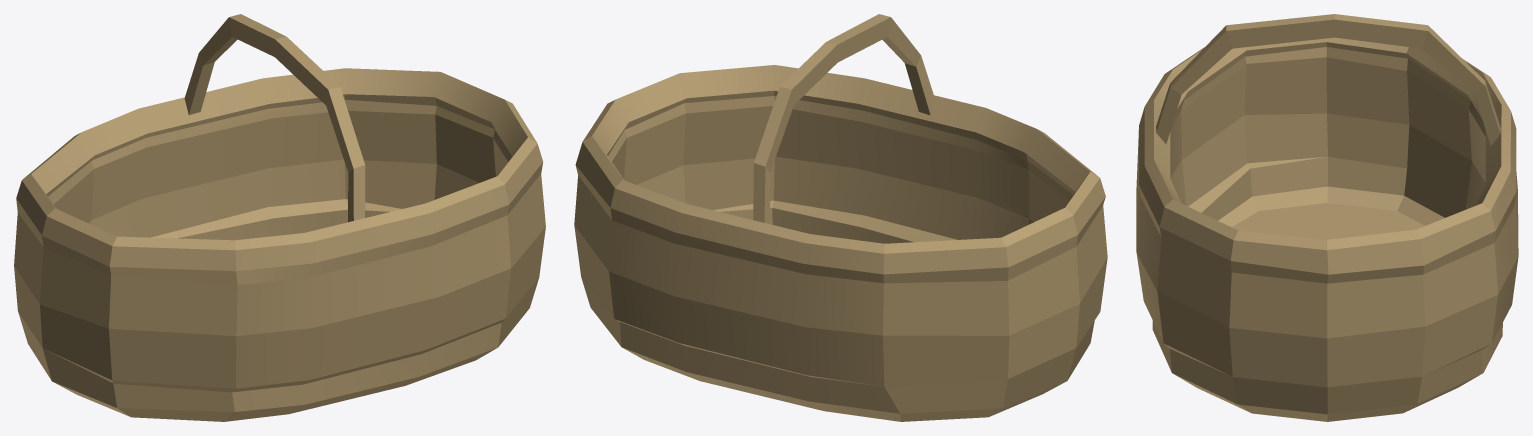
File: SM_Prop_Basket_04.fbx
The picture shows the model from 3 angles, left to right: view 1: azimuth 30°, elevation 25°; view 2: azimuth 150°, elevation 25°; view 3: azimuth 270°, elevation 25°; orthographic projection.
Parts seen in each view (by area): view 1: SM_Prop_Basket_04; view 2: SM_Prop_Basket_04; view 3: SM_Prop_Basket_04.
Boxes of the visible parts, x1,y1,x2,y2 form: SM_Prop_Basket_04: (14,14,545,421); SM_Prop_Basket_04: (574,14,1107,421); SM_Prop_Basket_04: (1136,14,1518,421).
Bounding box in the file's own units: 126 × 76.42 × 85.71.
